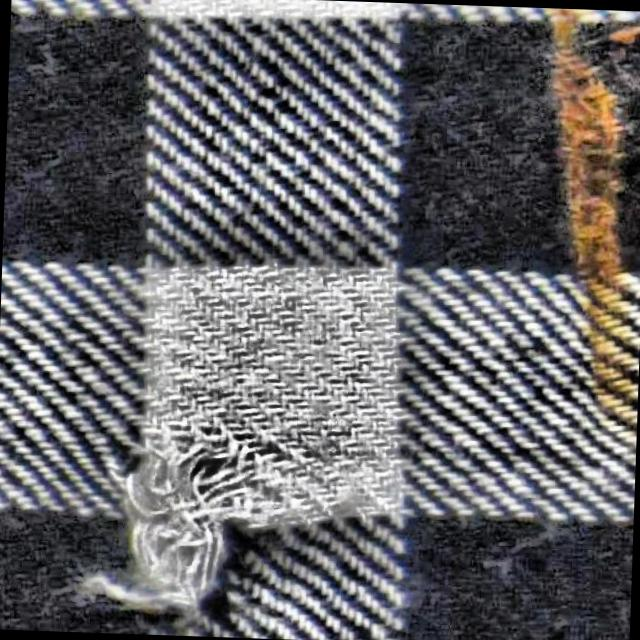cut: (108, 421, 263, 635)
stain: (540, 9, 640, 421)
